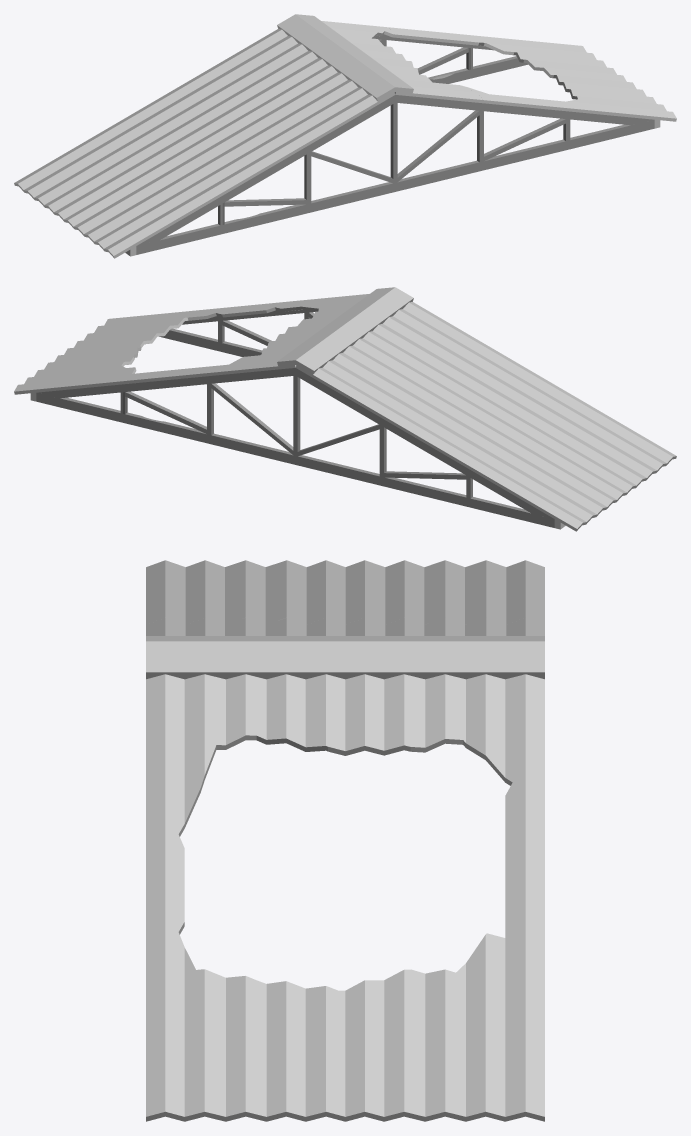
The model's file is Wh_Roof_Damaged_18m.fbx.
3 renders of one model, top to bottom at view 1: azimuth 30°, elevation 25°; view 2: azimuth 150°, elevation 25°; view 3: azimuth 270°, elevation 25°, orthographic. The views are drawn at different scales.
Parts seen in each view (by area): view 1: Cube.1077; view 2: Cube.1077; view 3: Cube.1077.
Part boxes in pixels (x1,y1,x2,y2): Cube.1077: [14, 14, 676, 258]; Cube.1077: [14, 287, 676, 531]; Cube.1077: [146, 560, 544, 1121].
Size of the model in its own units: 1963 by 348 by 600.
